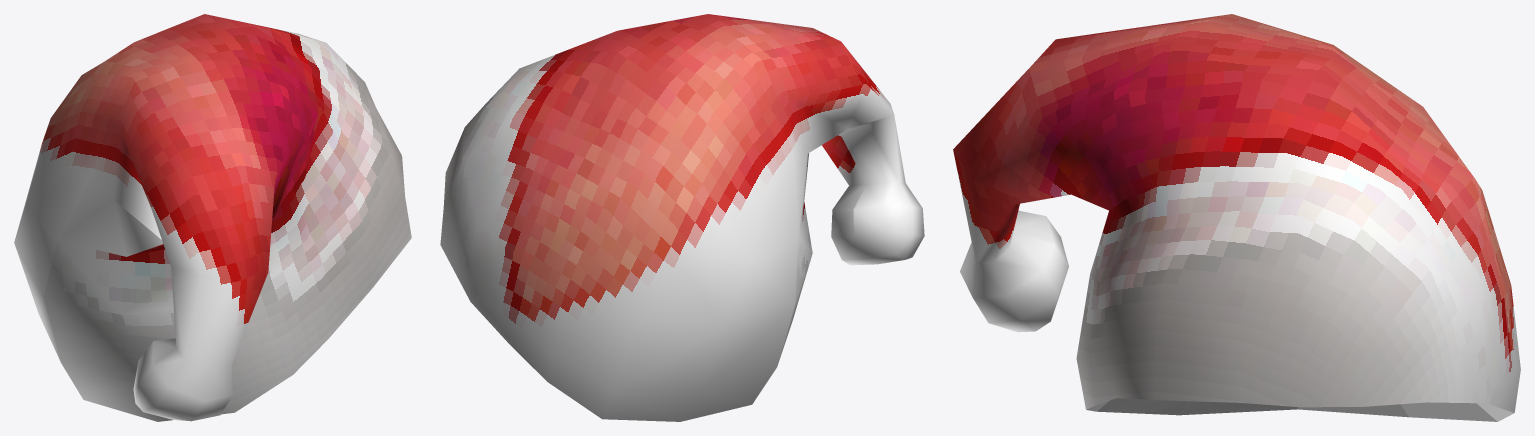
The model's file is chrhat_5000001.FBX.
3 renders of one model, left to right at view 1: azimuth 30°, elevation 25°; view 2: azimuth 150°, elevation 25°; view 3: azimuth 270°, elevation 25°, orthographic. The views are drawn at different scales.
Parts seen in each view (by area): view 1: chrhat_5000001; view 2: chrhat_5000001; view 3: chrhat_5000001.
Boxes of the visible parts, box(x1,y1,x2,y2) form: chrhat_5000001: box(14, 14, 411, 421); chrhat_5000001: box(440, 14, 924, 421); chrhat_5000001: box(953, 14, 1520, 421).
Bounding box in the file's own units: 26.74 × 24.75 × 30.11.
